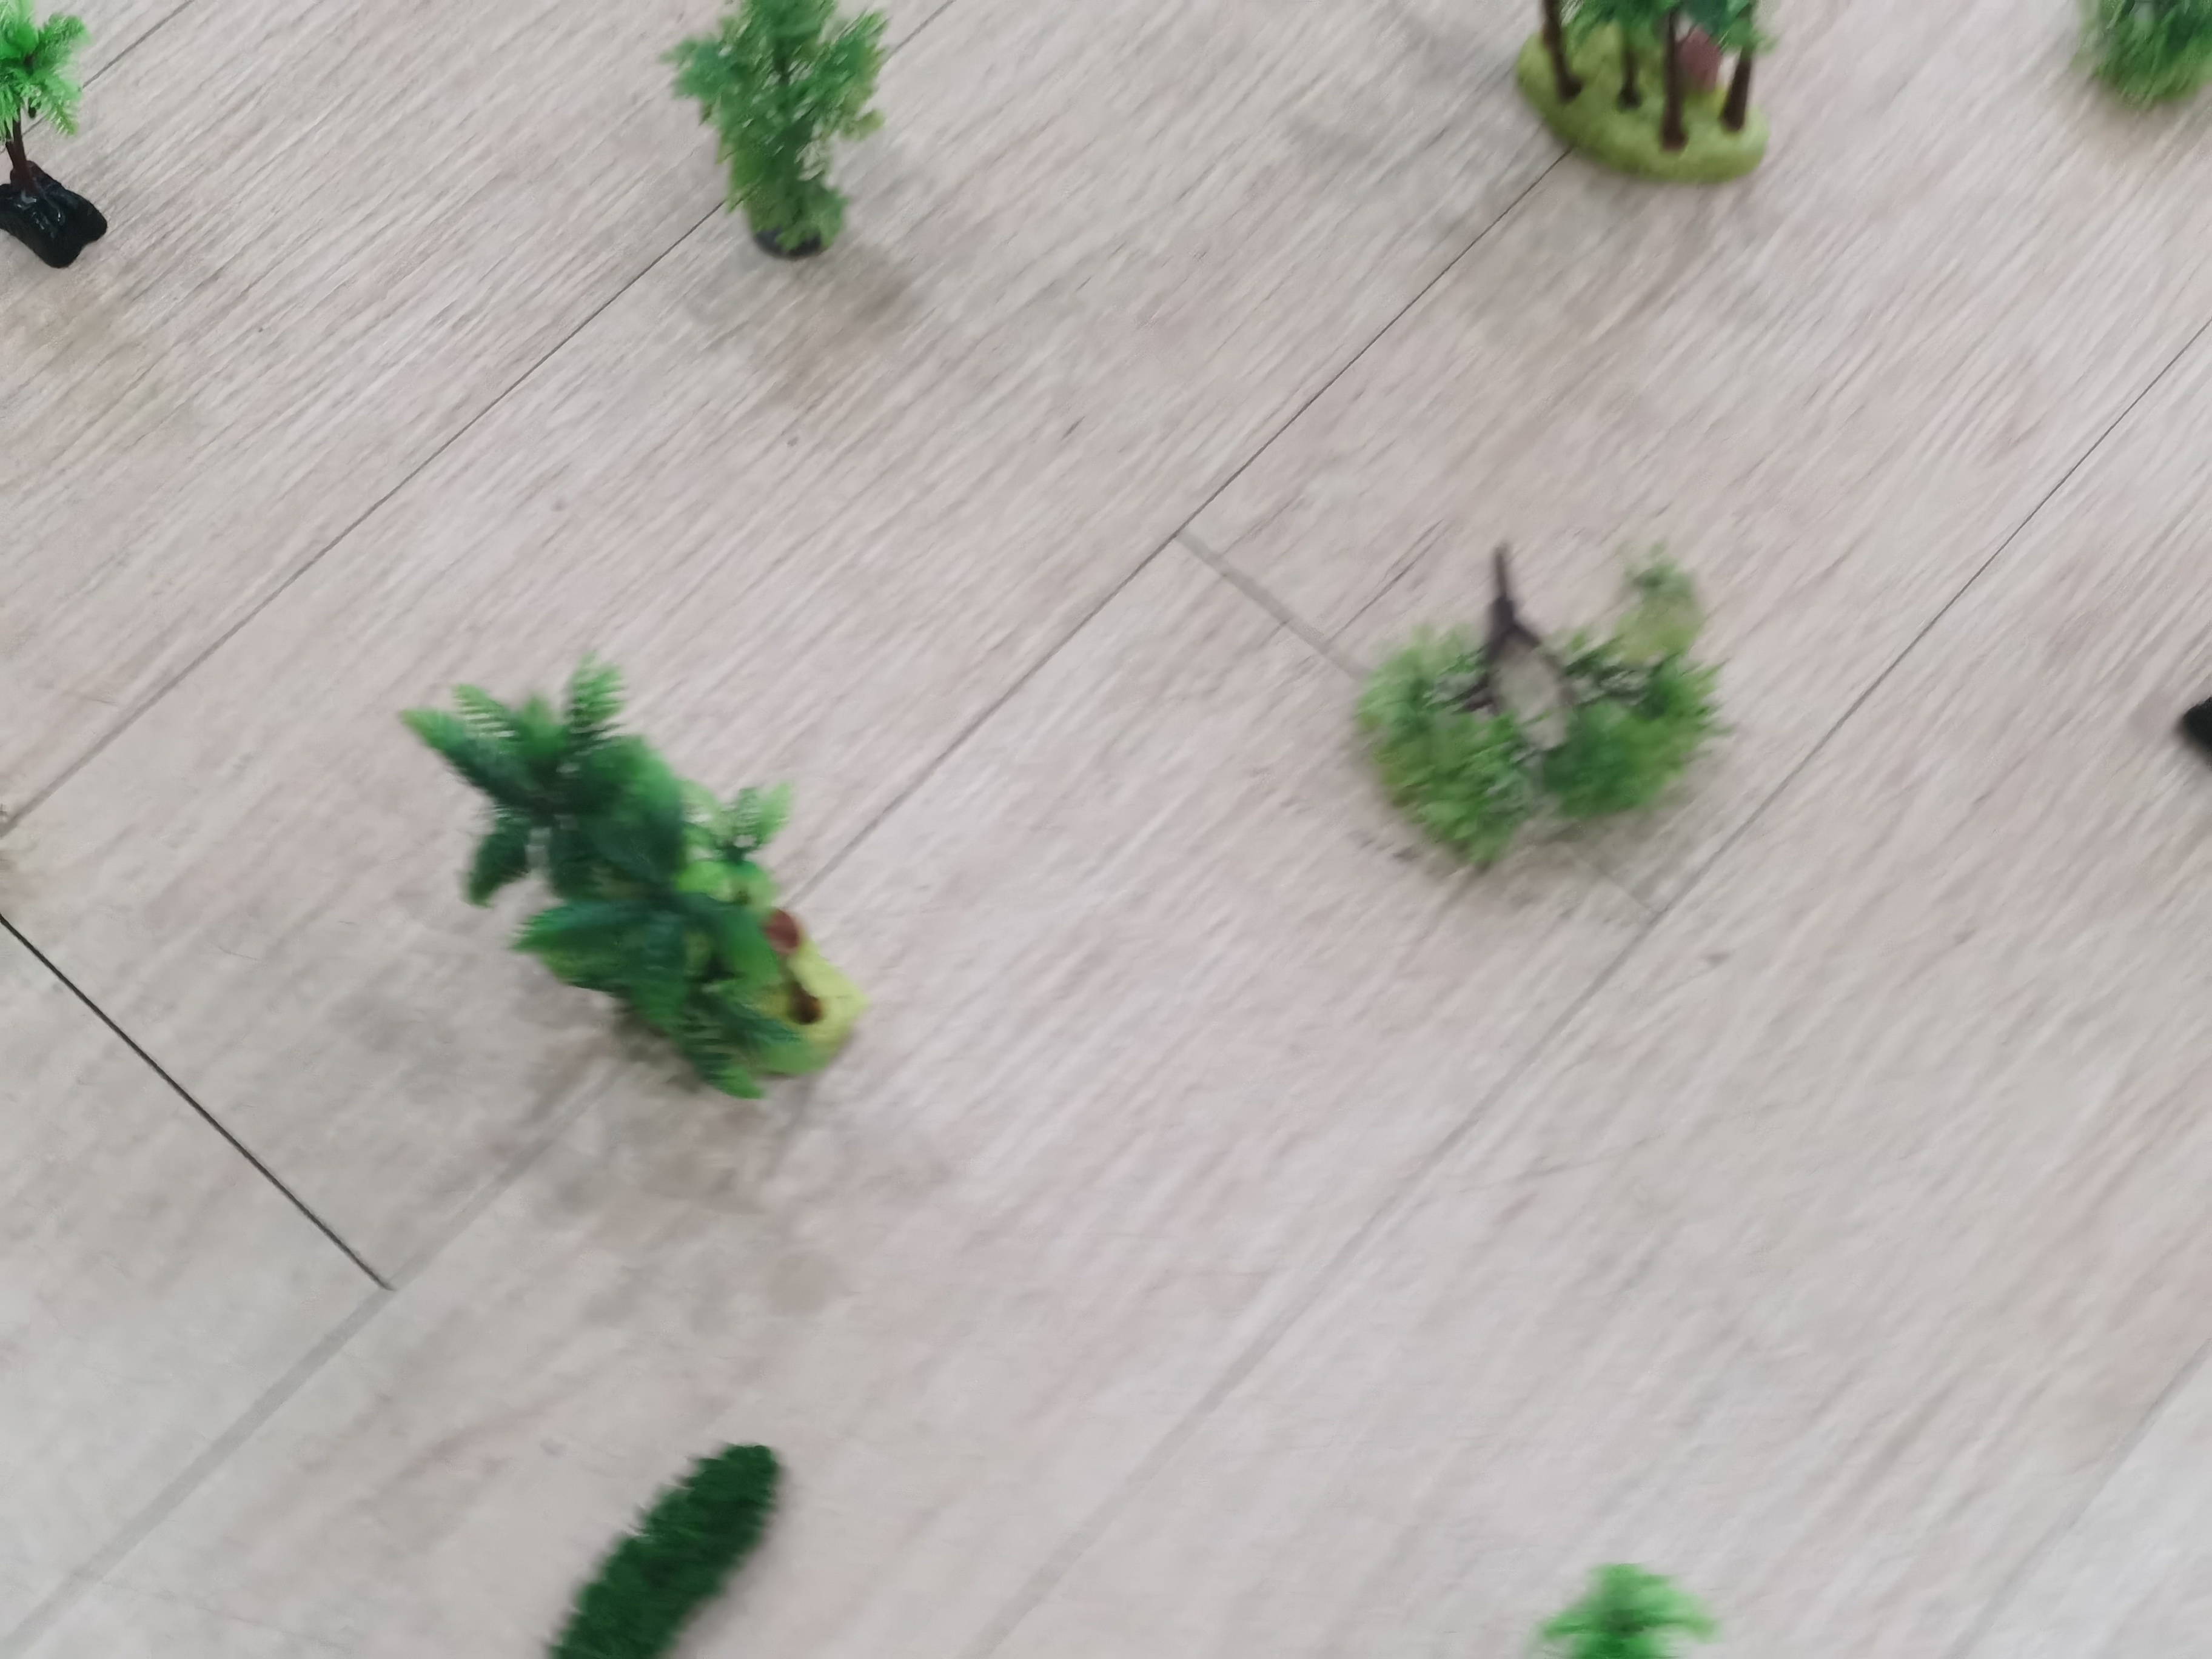corn: (399, 647, 848, 1105), (1507, 3, 1791, 174)
